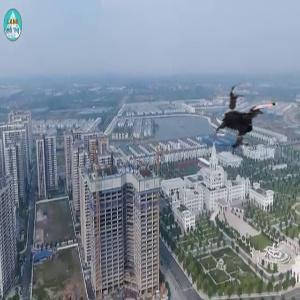drone: (208, 81, 291, 164)
